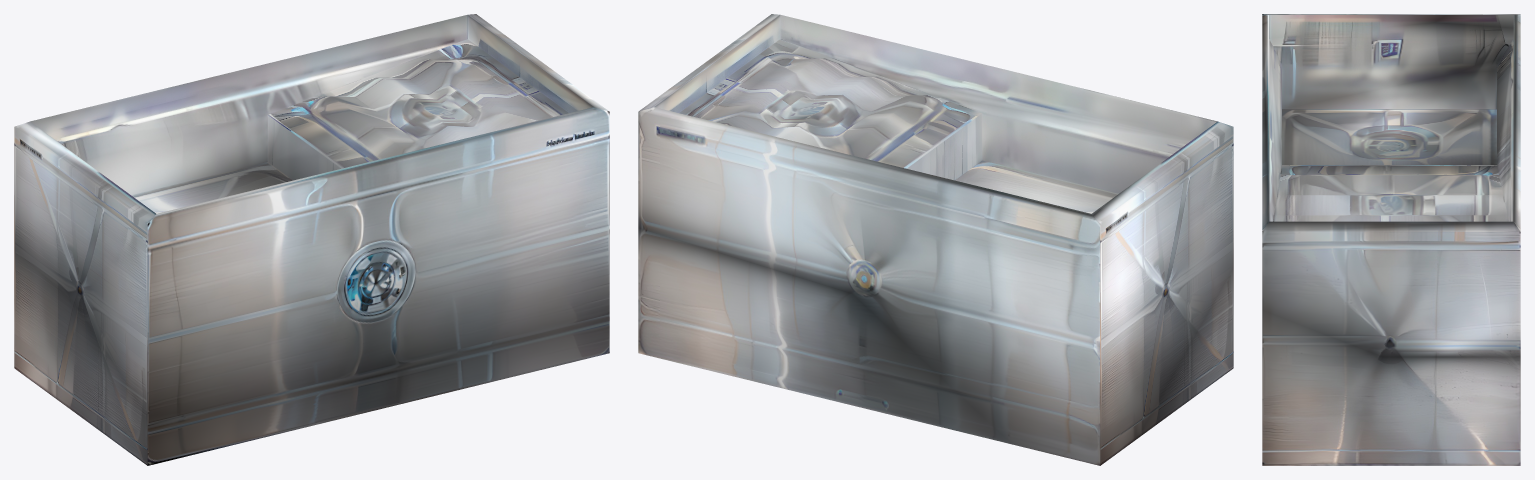
The model's file is sink2.glb.
3 renders of one model, left to right at view 1: azimuth 30°, elevation 25°; view 2: azimuth 150°, elevation 25°; view 3: azimuth 270°, elevation 25°, orthographic. The views are drawn at different scales.
Size of the model in its own units: 20 by 10.2 by 10.
1 material, 1 textured.
